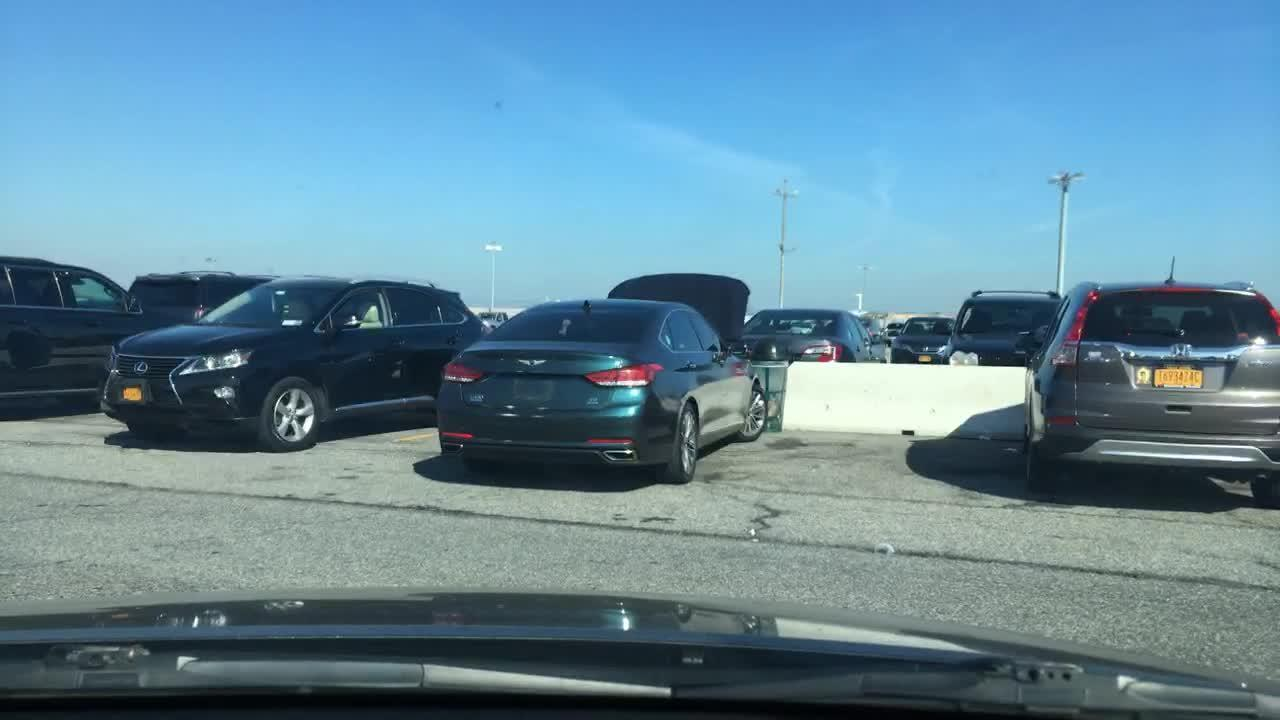Honda: (1166, 343, 1192, 362)
lexus: (129, 358, 151, 377)
no class: (510, 356, 551, 369)
